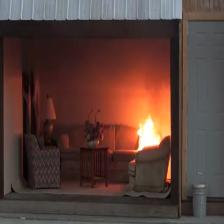fire: (138, 116, 160, 153)
